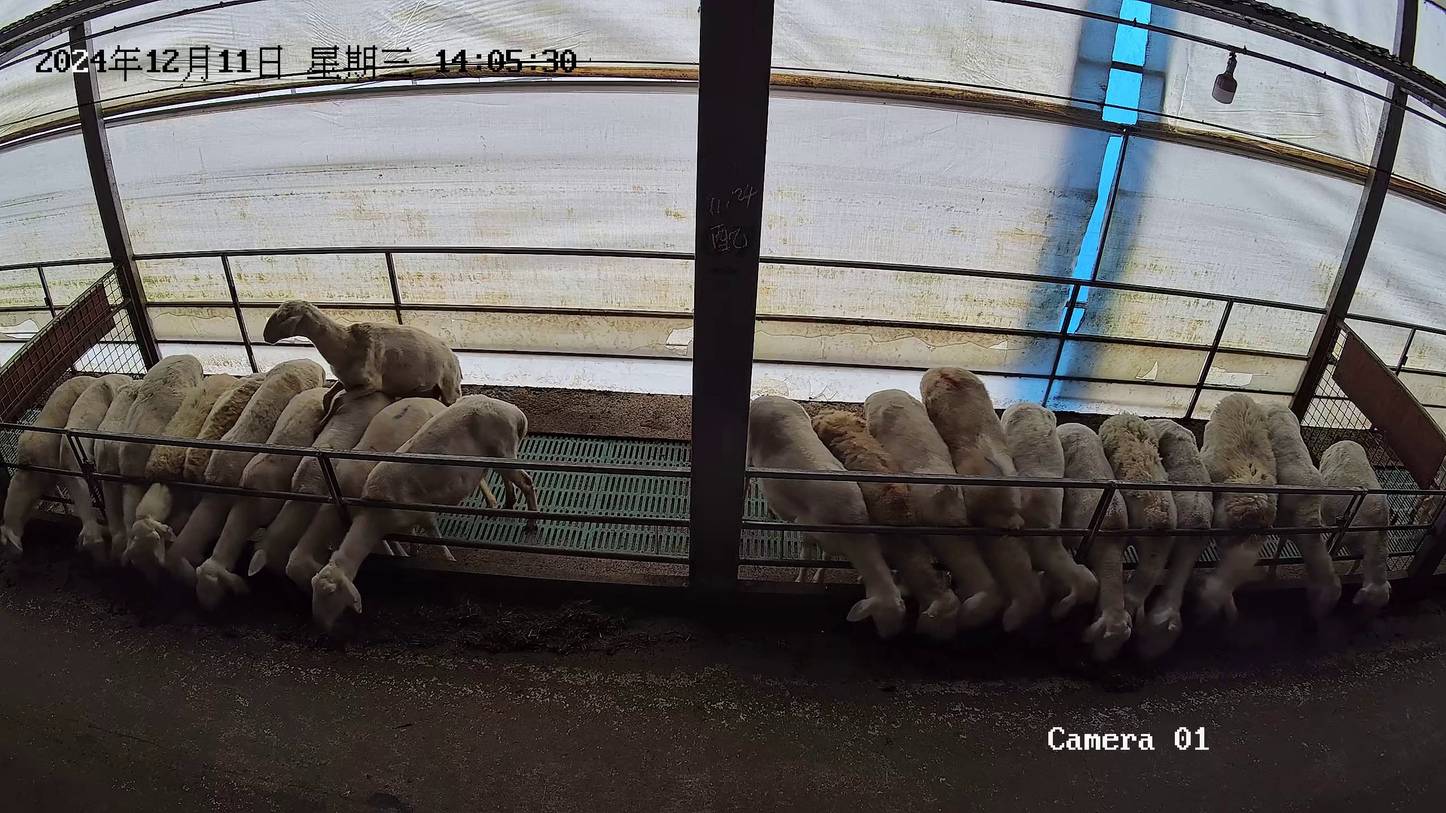Nmounting: (262, 298, 464, 571)
